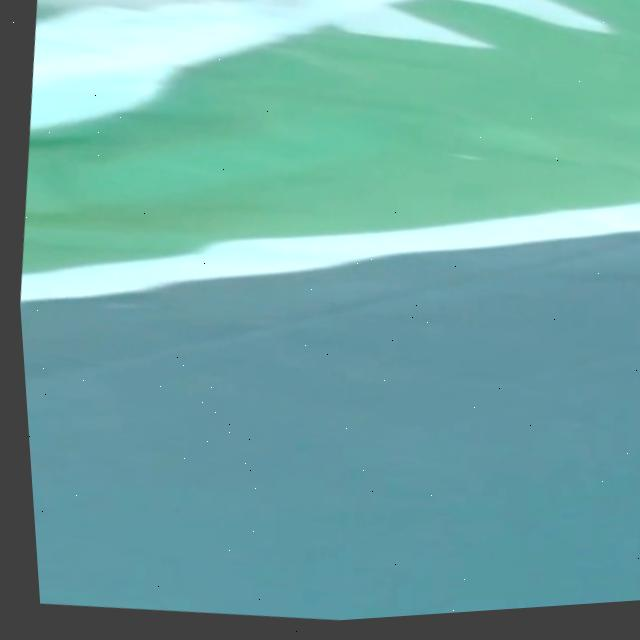right: (20, 203, 640, 299)
